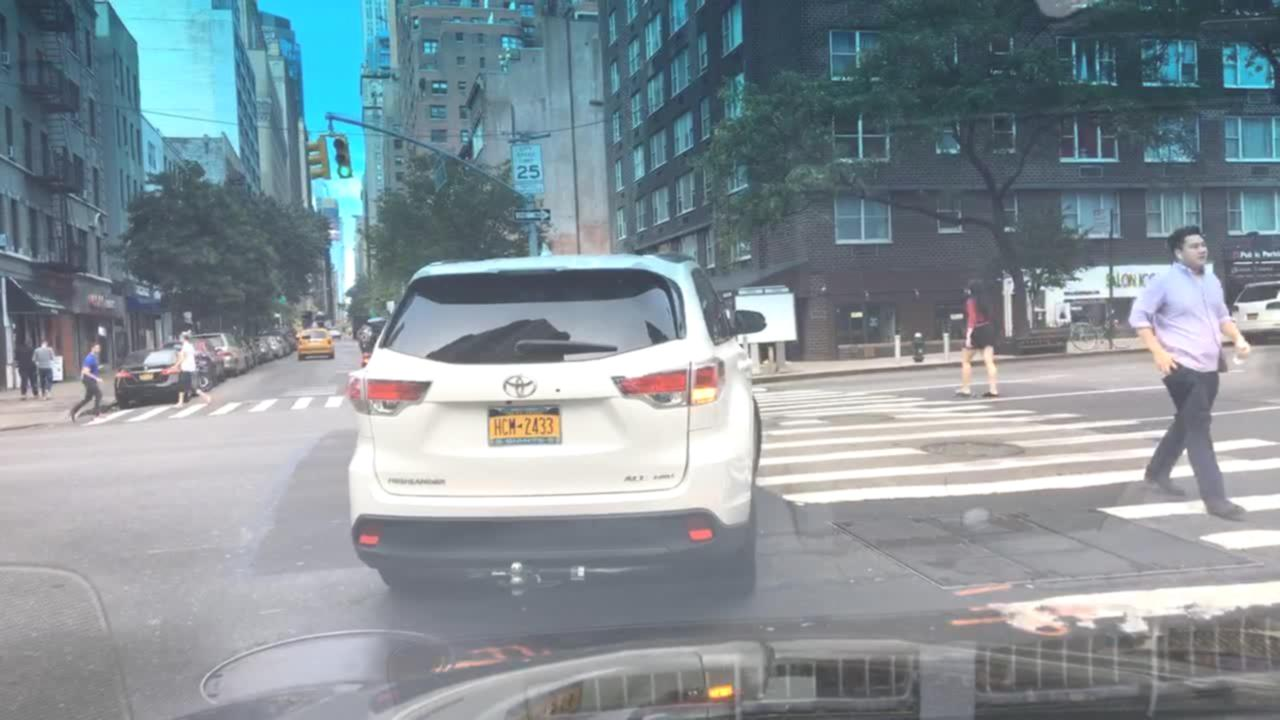Toyota: (493, 370, 550, 406)
